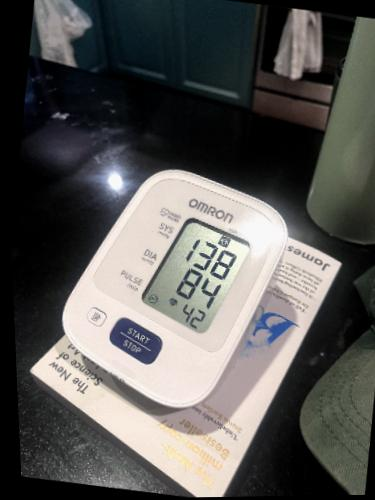bpm: (136, 206, 256, 337)
